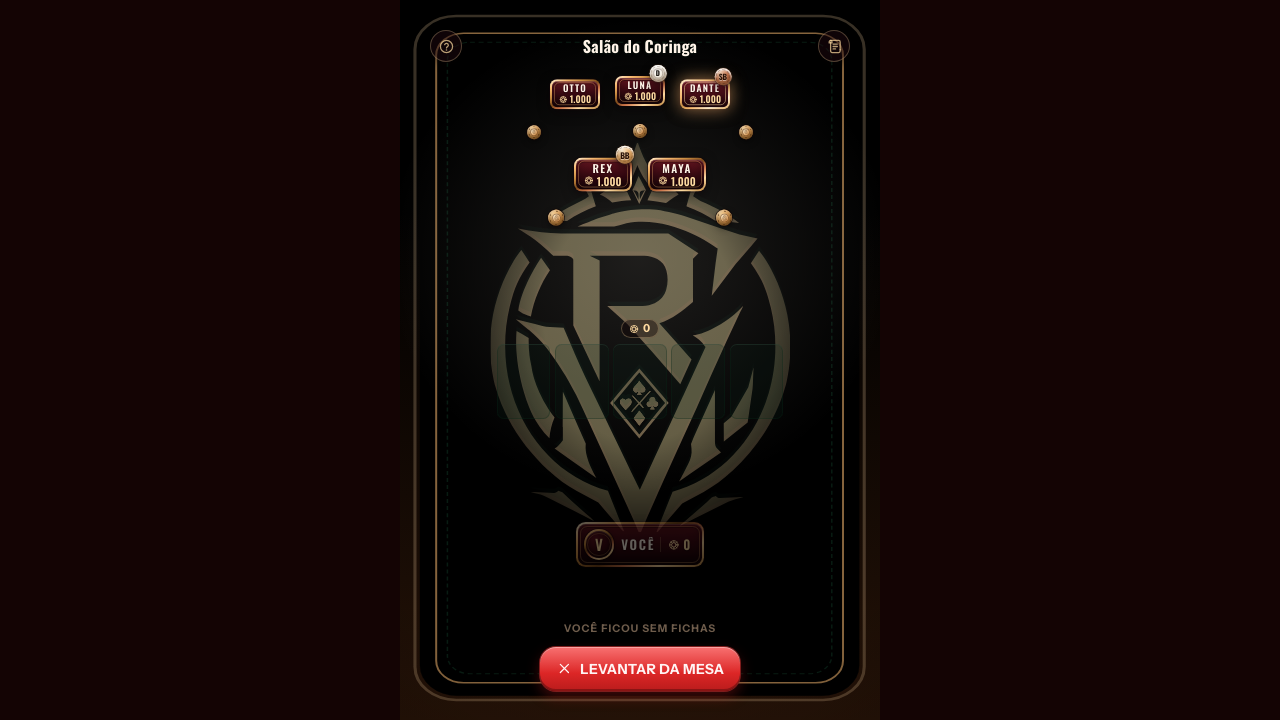
sem fichas, a saída fica em cena › o botão abre a mesma confirmação da bandeira do cabeçalho
The image size is (1280, 720).
Click the button with test id "cash-leave-broke": {"x": 640, "y": 669} [540, 647, 740, 691]
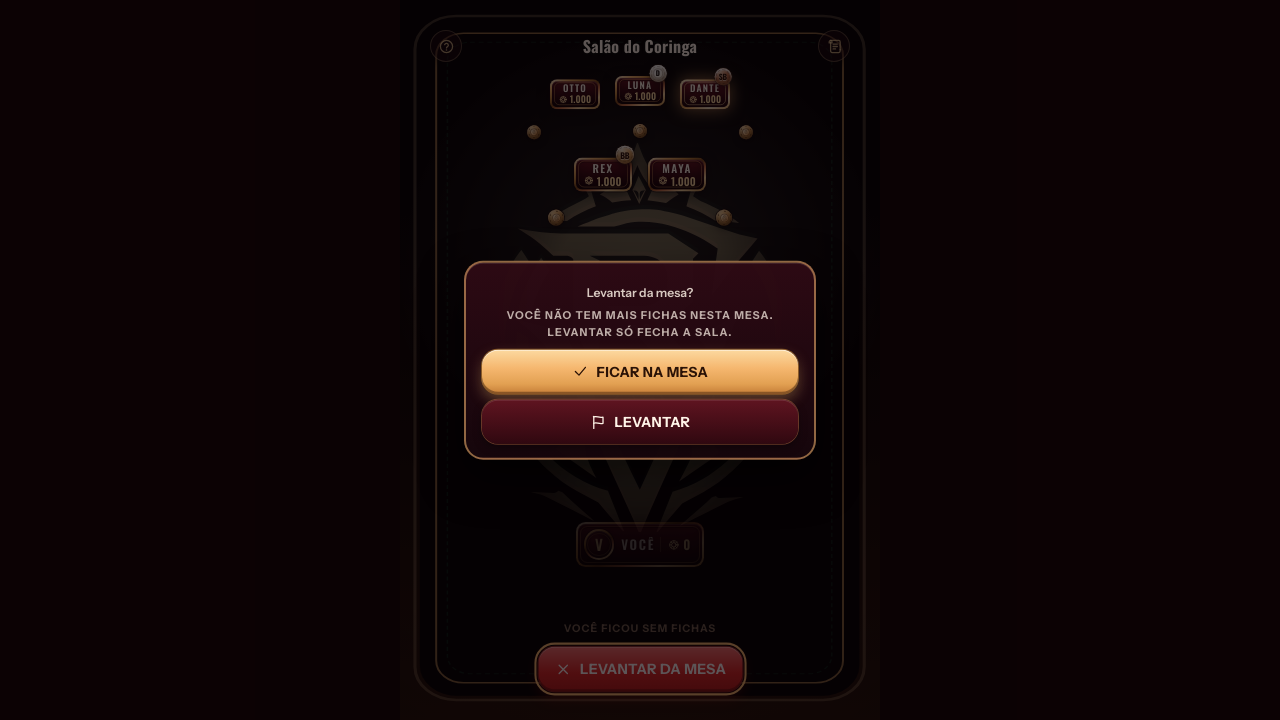
Expected: the dialog with test id "cash-leave-prompt" is shown, [464, 261, 816, 459]
